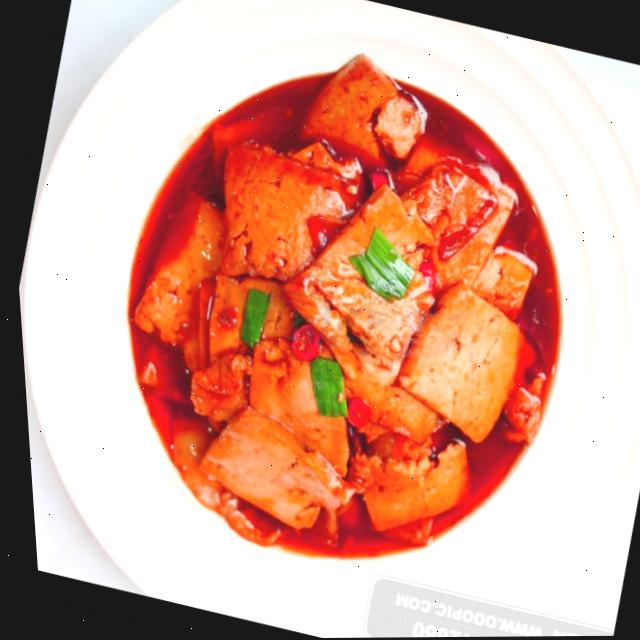豆腐料理: (43, 27, 631, 627)
